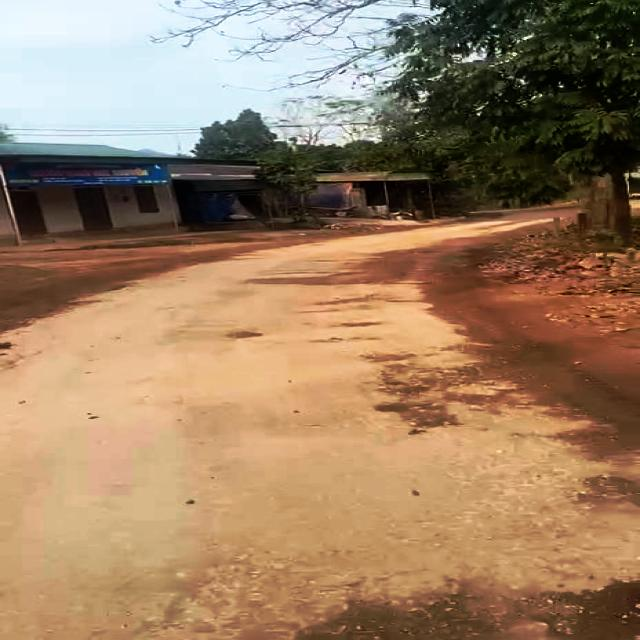pothole: (306, 584, 506, 640), (524, 572, 640, 640)
